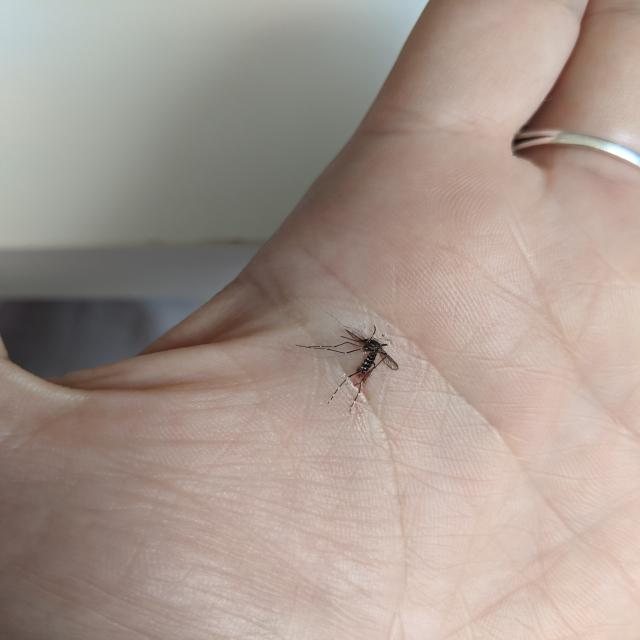albopictus: (294, 308, 404, 416)
